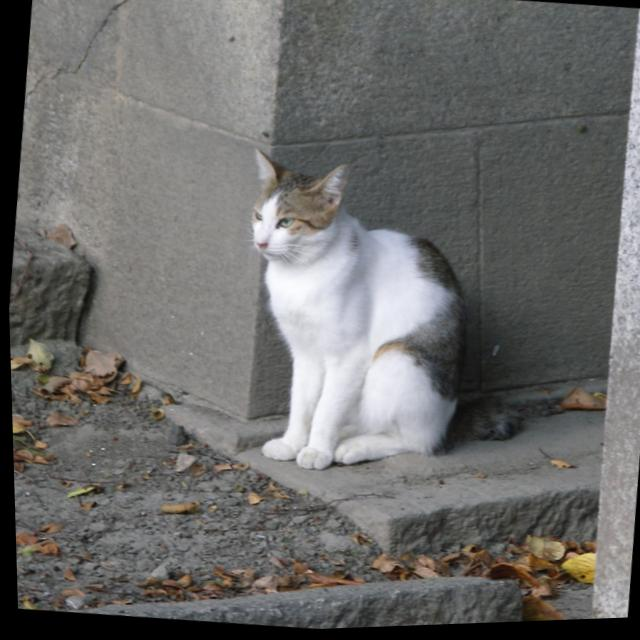animals: (246, 148, 347, 259)
